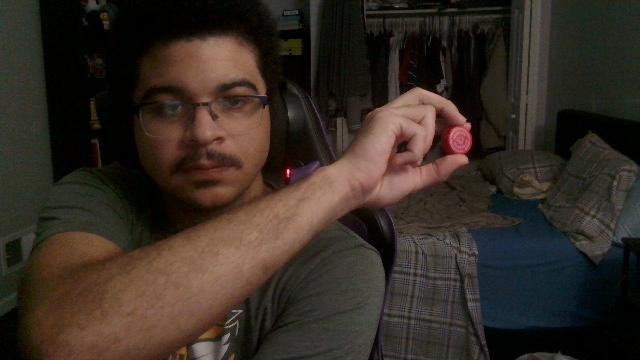cap: (442, 126, 472, 154)
